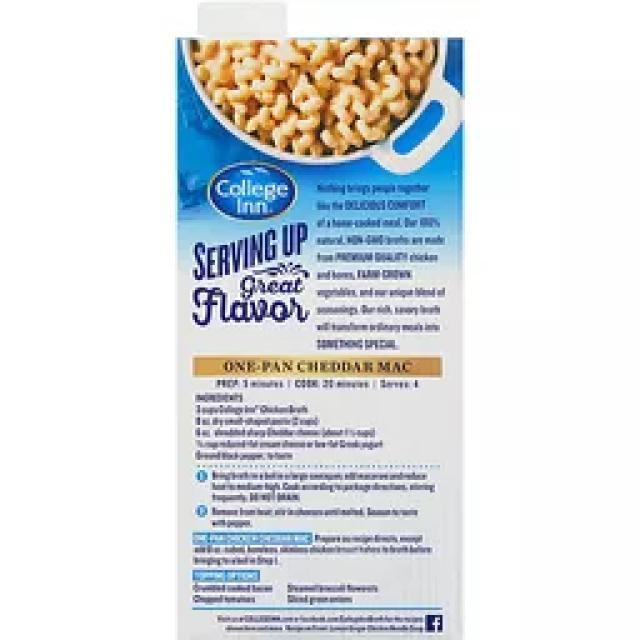Tetra: (170, 36, 471, 640)
